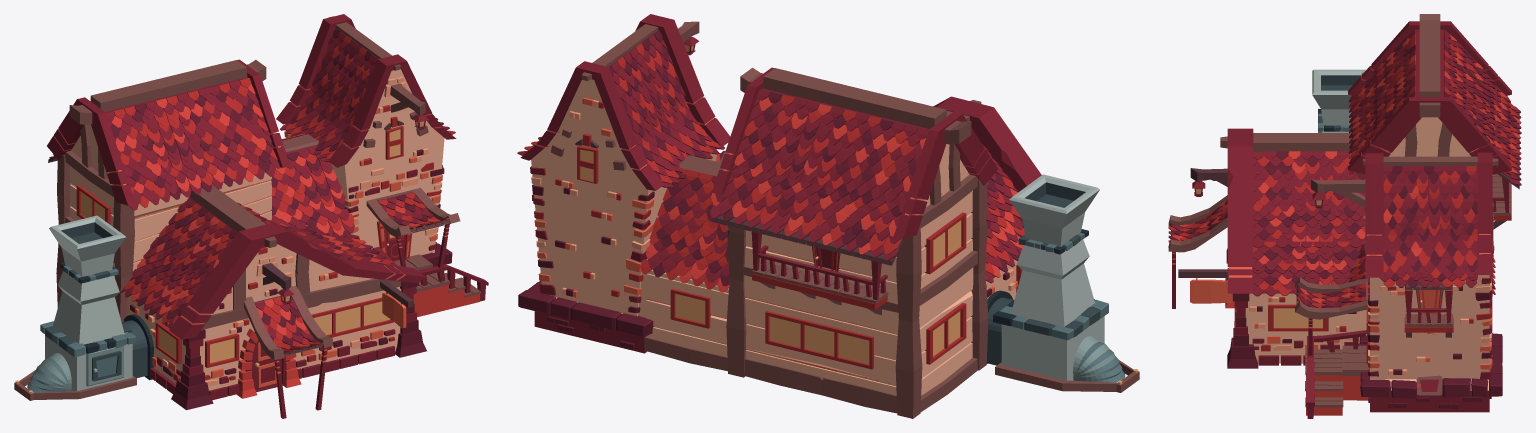
The model's file is casa-bruxa-final-1.0 1.fbx.
3 views of the same model, side by side, from view 1: azimuth 30°, elevation 25°; view 2: azimuth 150°, elevation 25°; view 3: azimuth 270°, elevation 25° (orthographic). The views are drawn at different scales.
Parts seen in each view (by area): view 1: Cube.095, Cube.002; view 2: Cube.095; view 3: Cube.095.
Part boxes in pixels (bbox=[...]): Cube.095: bbox=[14, 14, 488, 418]; Cube.002: bbox=[253, 340, 281, 390]; Cube.095: bbox=[517, 14, 1139, 418]; Cube.095: bbox=[1168, 14, 1521, 418].
Bounding box in the file's own units: 1641 × 824 × 1093.
